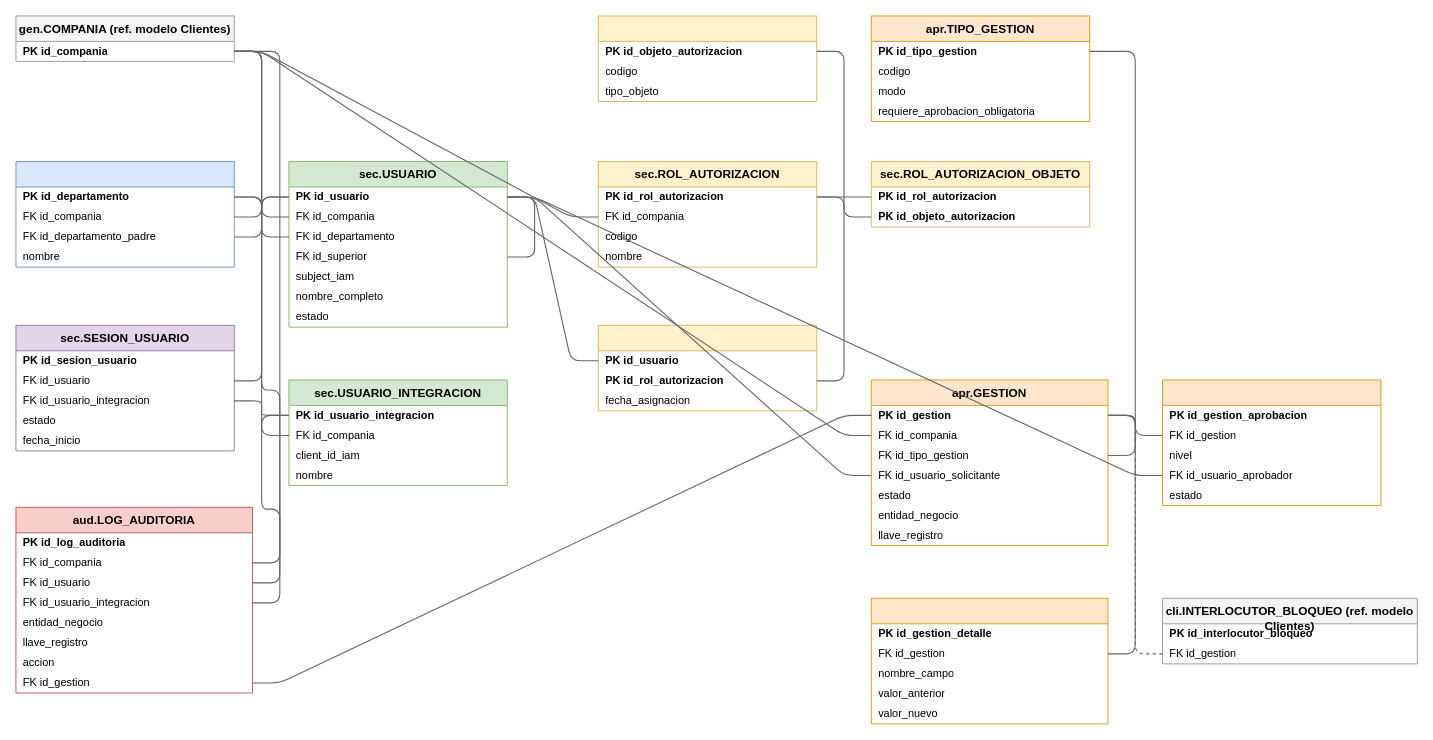
This 1433x740 diagram has some shape labels left out. The box of each missing label's shape, as (x1, y1, x2, y2) in pixels:
apr.GESTION_APROBACION: (1162, 379, 1381, 506)
apr.GESTION_DETALLE: (870, 597, 1108, 724)
sec.DEPARTAMENTO: (15, 161, 234, 267)
sec.OBJETO_AUTORIZACION: (597, 15, 817, 101)
sec.USUARIO_ROL: (597, 324, 817, 411)
